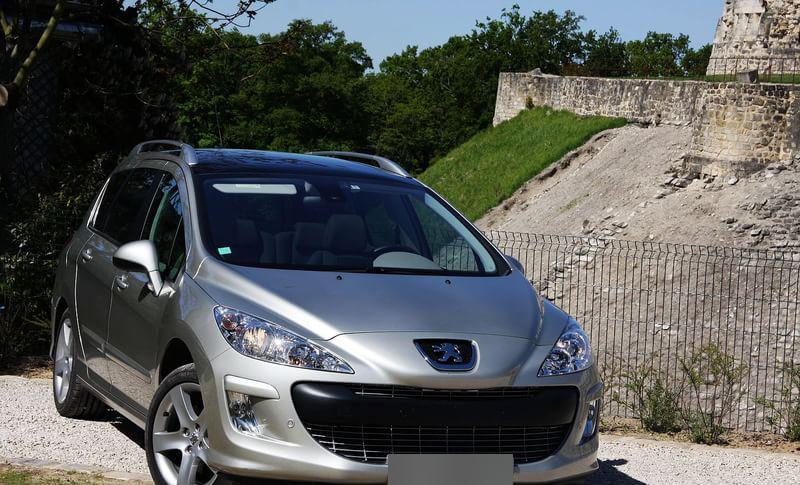Wagon: (50, 140, 603, 485)
